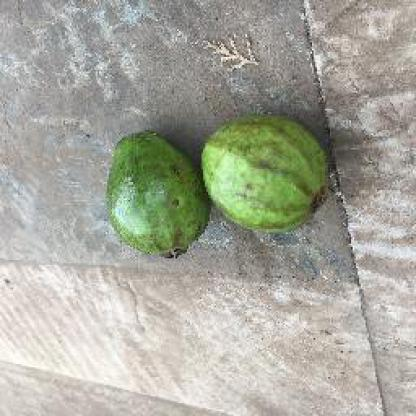guava: (202, 114, 332, 234), (106, 130, 211, 260)
